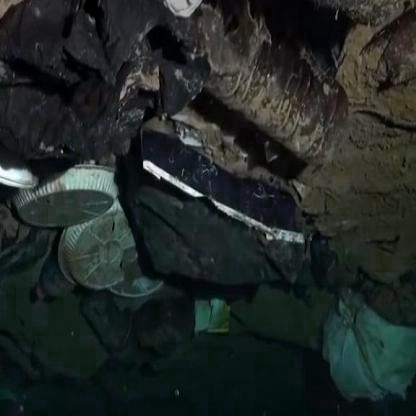plastic: (203, 8, 360, 187), (59, 200, 171, 301), (16, 153, 108, 227)
